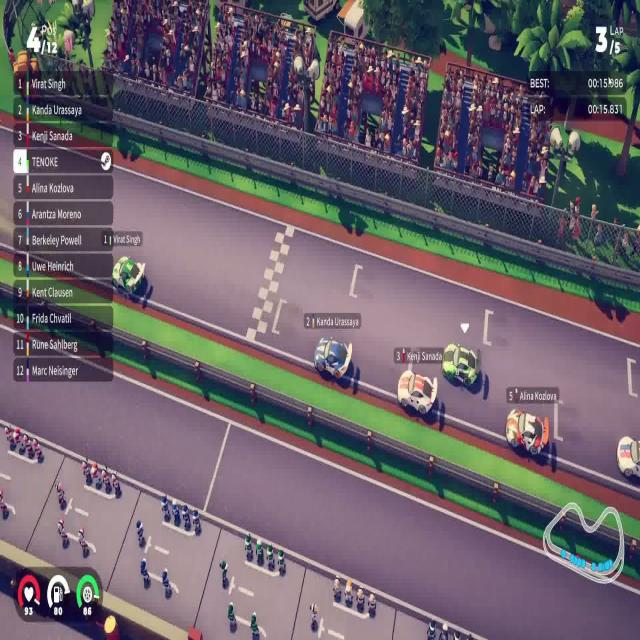car: (505, 407, 549, 458), (396, 368, 438, 417), (441, 341, 479, 388), (313, 335, 352, 380), (111, 252, 148, 299)
